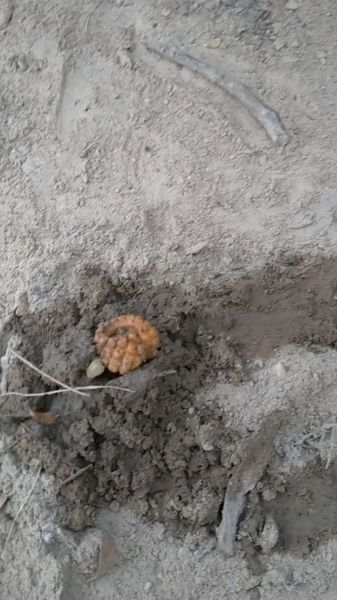eggs: (89, 310, 166, 378)
